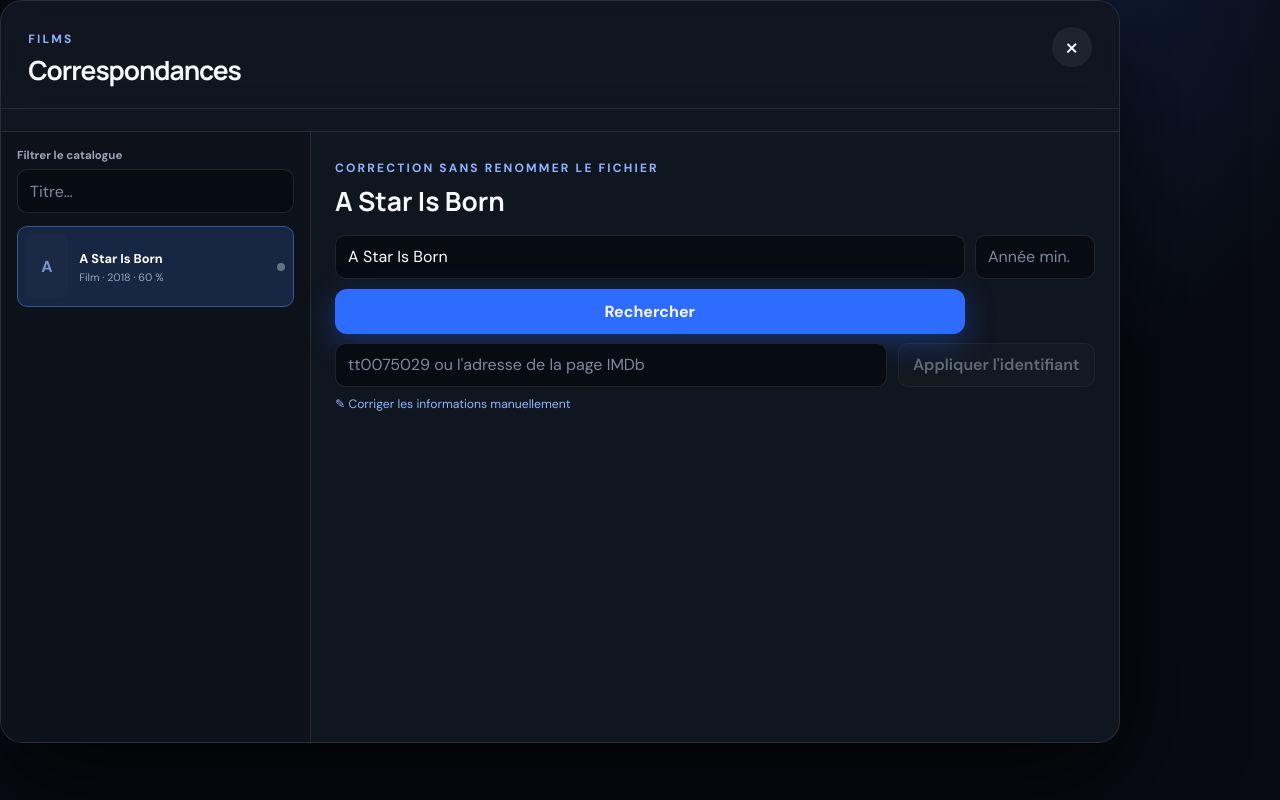
correspondance par identifiant IMDb › remonte le refus du serveur au lieu de laisser croire à une réussite
Type "tt9999999" into the field named "Identifiant IMDb" at (611, 365), box 335,343 -> 887,387
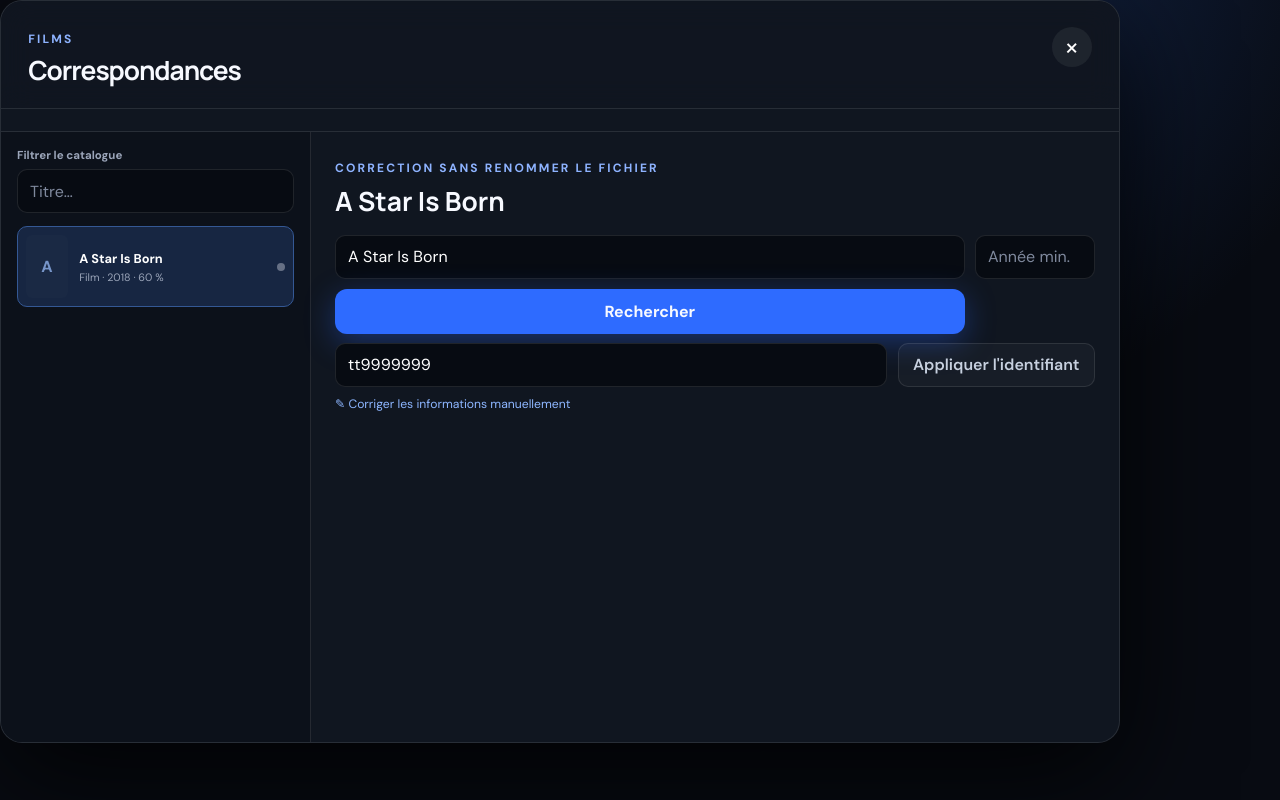
Click the button "Appliquer l'identifiant" at (996, 365), box 898,343 -> 1095,387
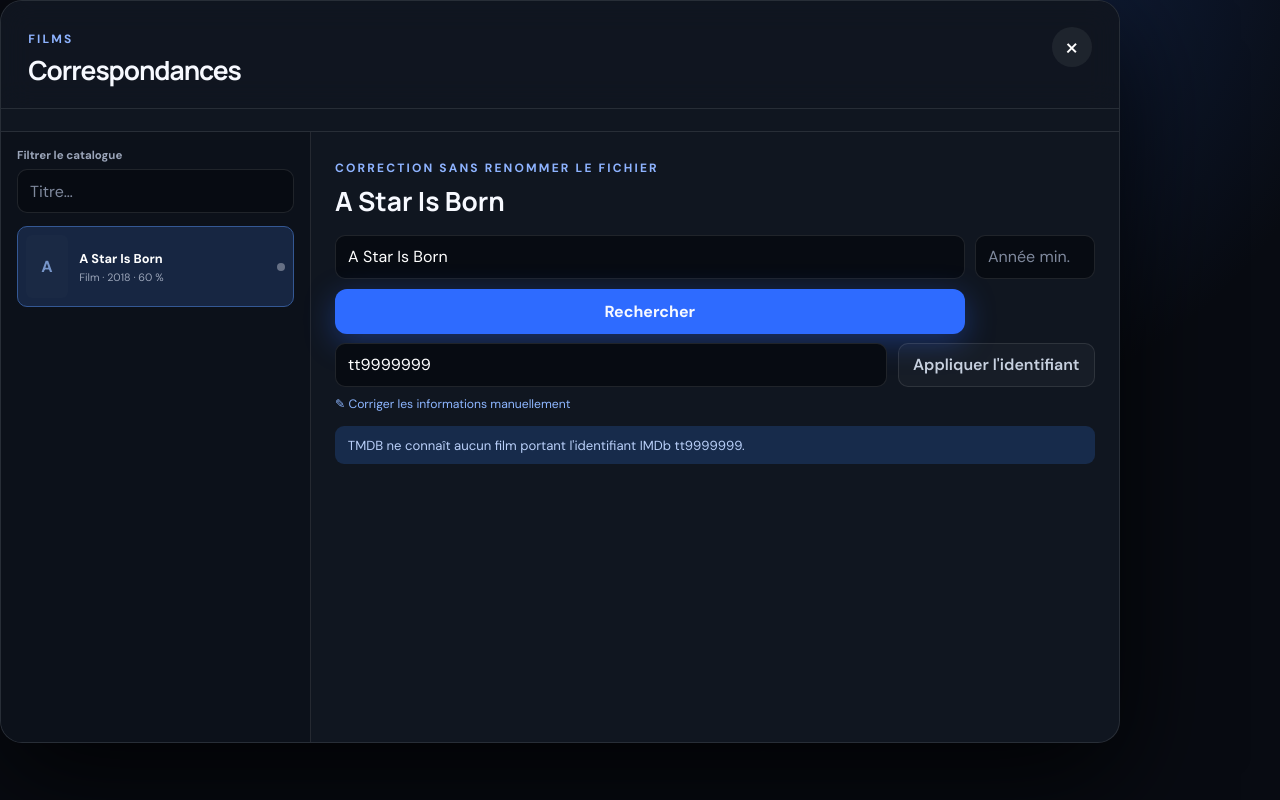
Expected: the text "ne connaît aucun film" is shown, 348,437 -> 745,454
